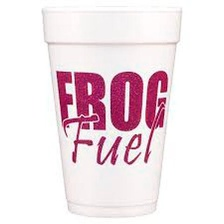paper_cup: (36, 0, 186, 224)
